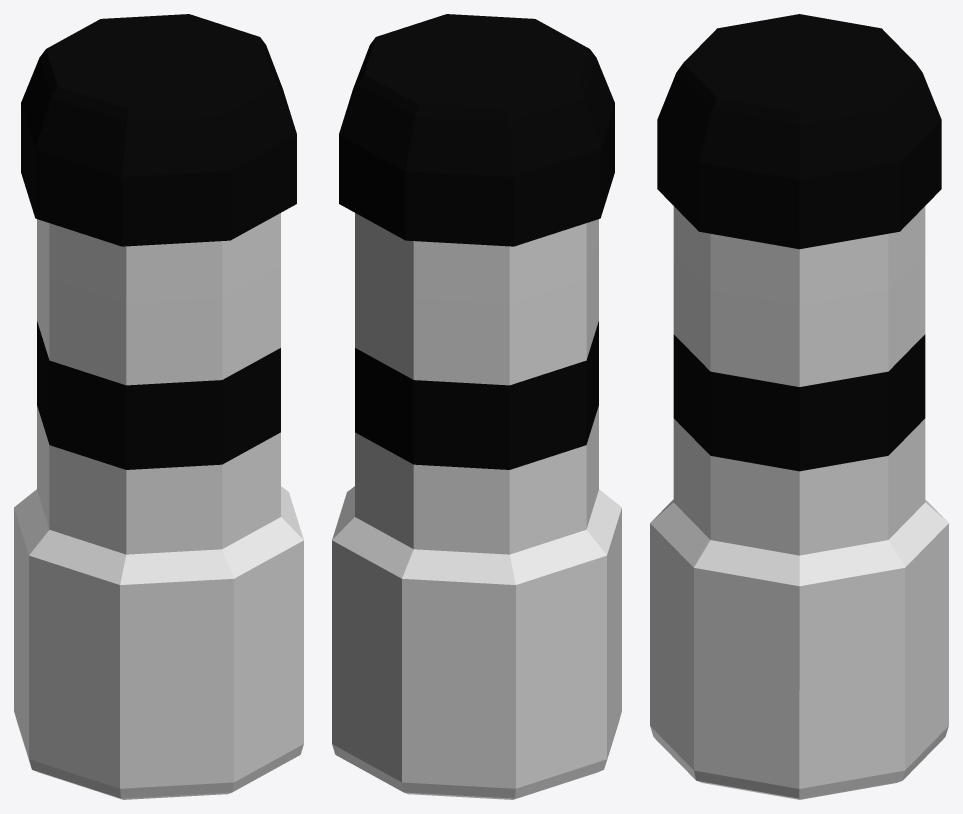
File: Ma_Spice_3.fbx
3 views of the same model, side by side, from view 1: azimuth 30°, elevation 25°; view 2: azimuth 150°, elevation 25°; view 3: azimuth 270°, elevation 25° (orthographic).
Parts seen in each view (by area): view 1: Ma_Spice_3; view 2: Ma_Spice_3; view 3: Ma_Spice_3.
Boxes of the visible parts, box(x1,y1,x2,y2) form: Ma_Spice_3: box(14, 14, 303, 799); Ma_Spice_3: box(332, 14, 621, 799); Ma_Spice_3: box(650, 14, 948, 799).
Size of the model in its own units: 40.47 by 40.47 by 101.
